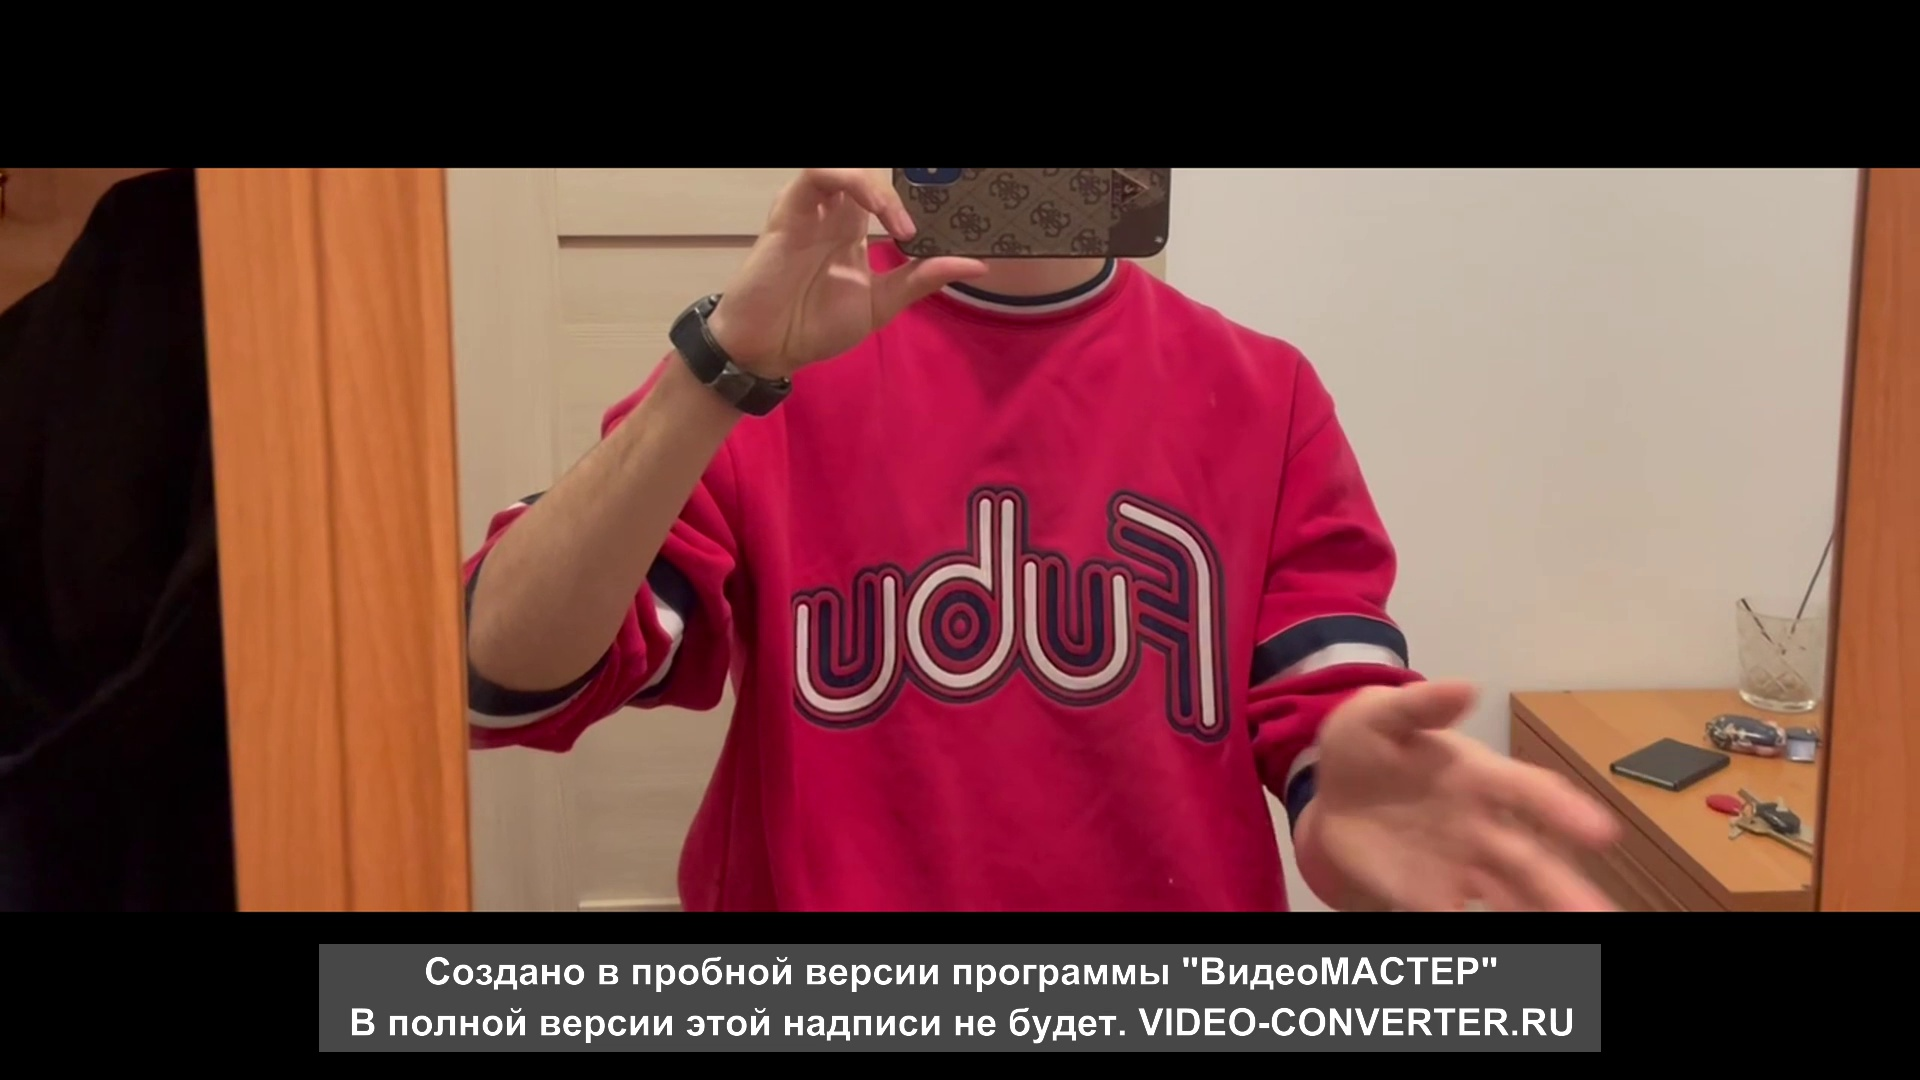Ладонь: (1316, 682, 1626, 909)
